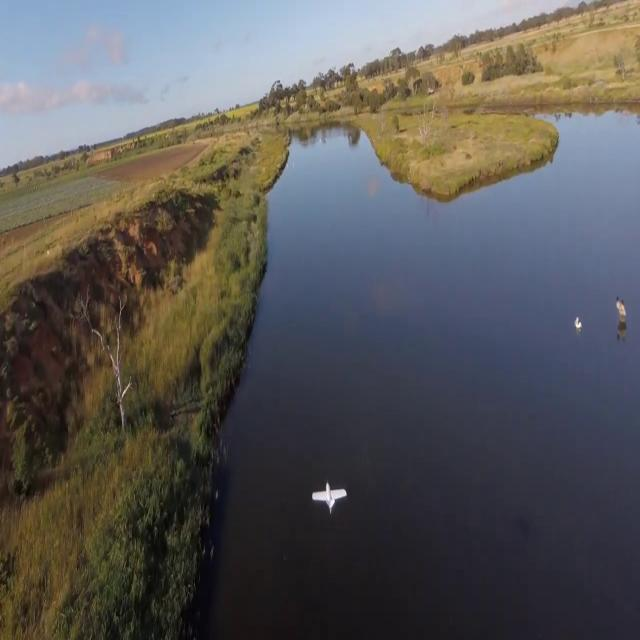iha: (305, 484, 342, 508)
